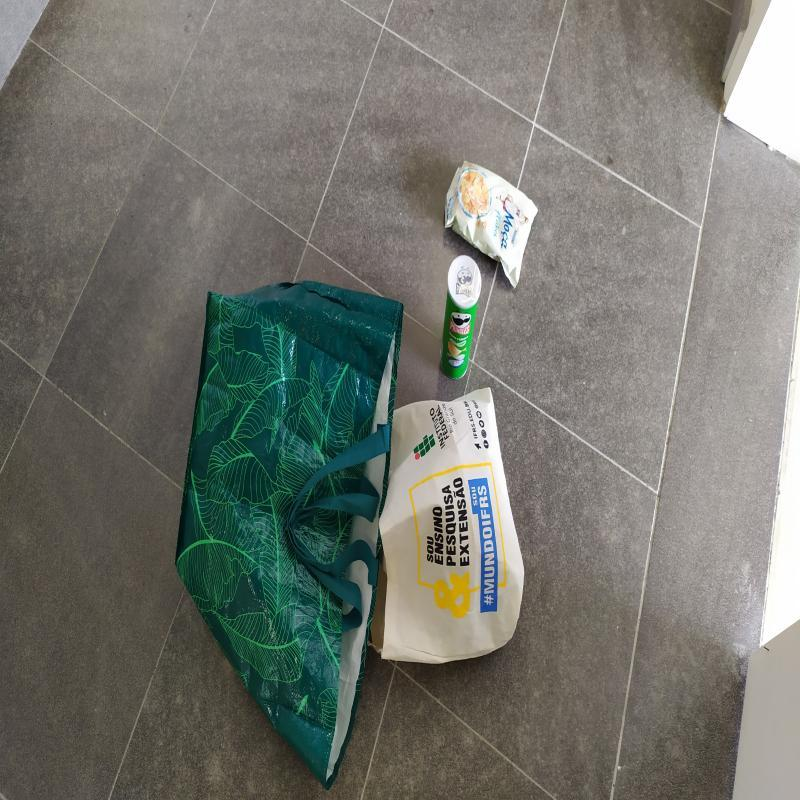Bag: (171, 282, 403, 790), (371, 387, 526, 664)
CornFlakes: (445, 164, 542, 291)
Pringles: (437, 255, 483, 384)
